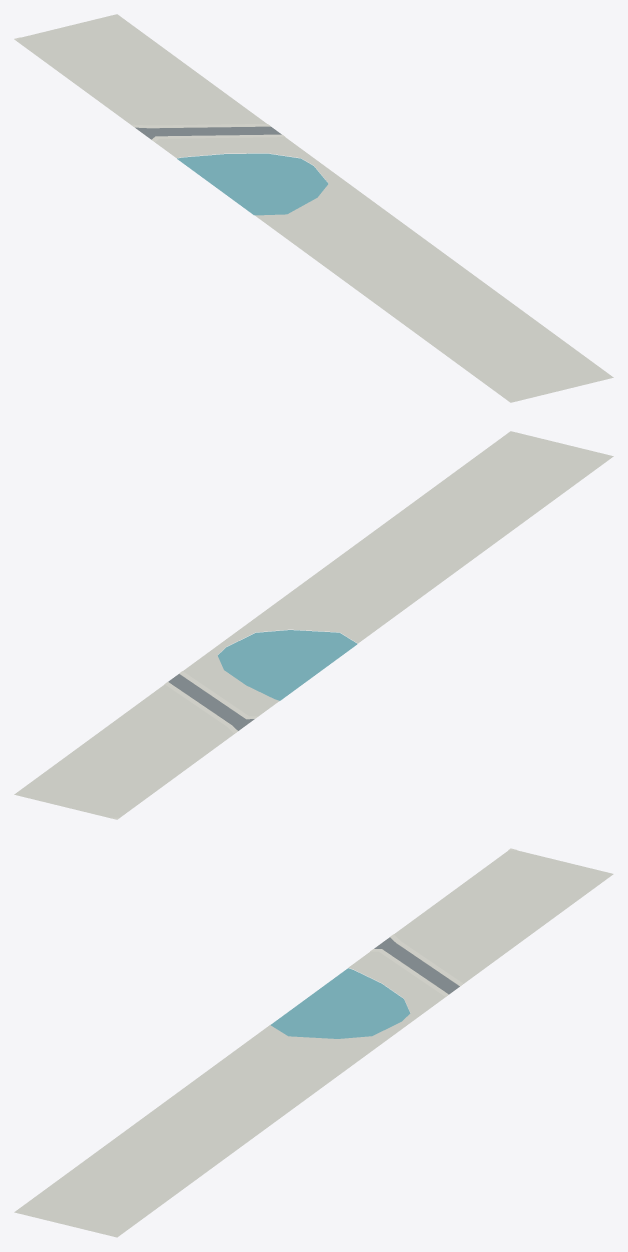
3 renders of one model, top to bottom at view 1: azimuth 30°, elevation 25°; view 2: azimuth 150°, elevation 25°; view 3: azimuth 330°, elevation 25°, orthographic.
Parts seen in each view (by area): view 1: city; view 2: city; view 3: city.
Boxes of the visible parts, left/top/right/bottom form: city: left=14, top=14, right=613, bottom=402; city: left=14, top=431, right=613, bottom=819; city: left=14, top=848, right=613, bottom=1237.
Size of the model in its own units: 60 by 0.4 by 500.
